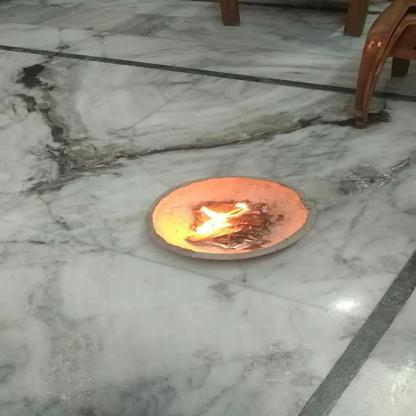fire: (188, 200, 254, 238)
